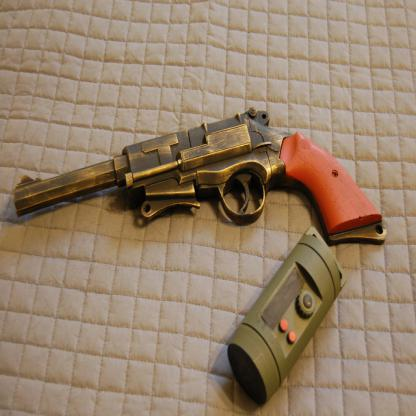Handgun: (13, 106, 387, 246)
